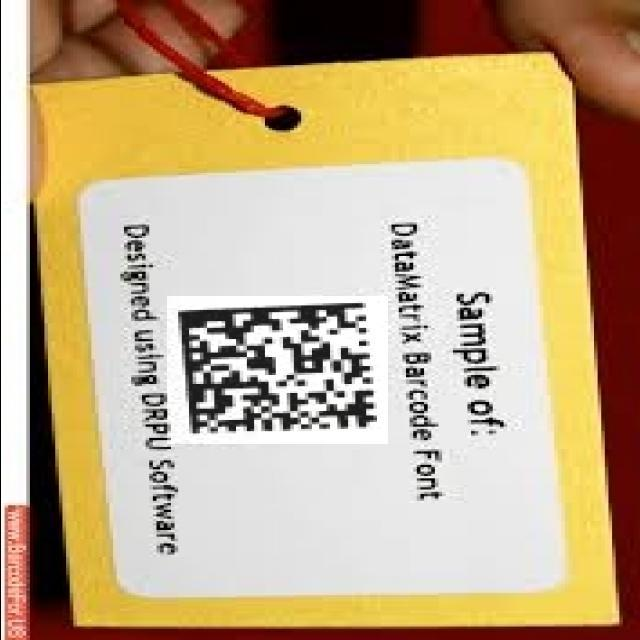Data-Matrix: (166, 297, 387, 445)
